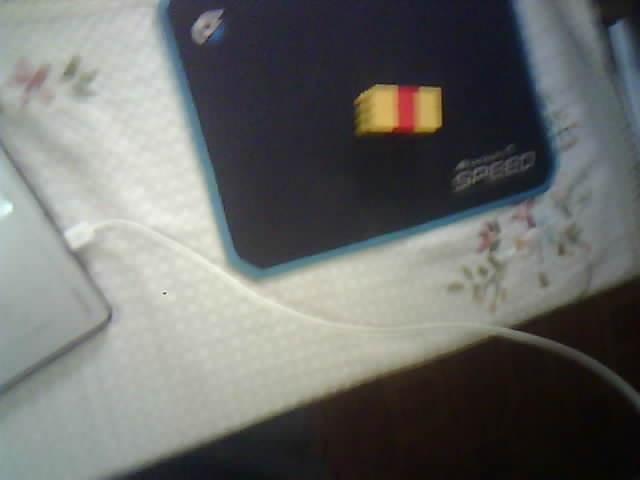lego: (352, 82, 443, 137)
